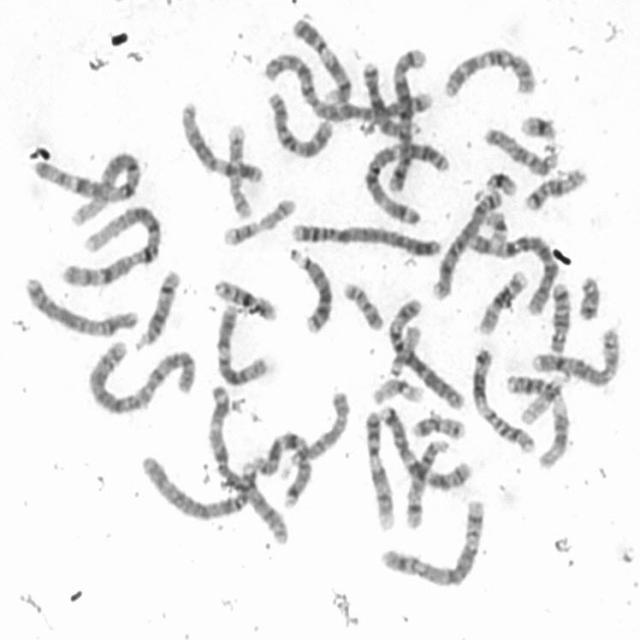A1: (59, 202, 163, 289), (30, 148, 144, 215)
A2: (261, 48, 432, 134), (83, 338, 198, 417)
A3: (204, 382, 292, 548), (361, 136, 453, 225)
B4: (139, 454, 259, 524), (286, 218, 443, 259)
B5: (377, 497, 487, 590), (384, 41, 428, 199)
C10: (439, 43, 539, 99), (263, 87, 335, 161)
C11: (467, 344, 539, 456), (503, 372, 573, 474)
C12: (175, 96, 266, 187), (211, 299, 273, 388)
C6: (382, 293, 467, 412), (464, 228, 558, 317)
C7: (374, 399, 474, 493), (249, 427, 313, 509)
C8: (428, 184, 505, 302), (528, 324, 622, 387)
C9: (288, 14, 354, 106), (360, 406, 397, 534)
D13: (361, 58, 424, 138), (284, 244, 335, 336)
D14: (402, 435, 449, 531), (132, 265, 182, 353)
D15: (284, 386, 352, 469), (478, 122, 560, 178)
E16: (476, 267, 530, 337), (210, 275, 280, 323)
E17: (220, 195, 298, 248), (222, 120, 255, 222)
E18: (521, 164, 590, 214), (546, 278, 573, 355)
F19: (369, 374, 426, 406), (479, 206, 511, 246)
F20: (340, 277, 386, 332), (409, 410, 466, 441)
G21: (517, 111, 559, 141), (484, 169, 518, 197)
G22: (516, 370, 570, 427), (385, 321, 424, 379)
X: (20, 272, 140, 339)
Y: (575, 271, 601, 322)
